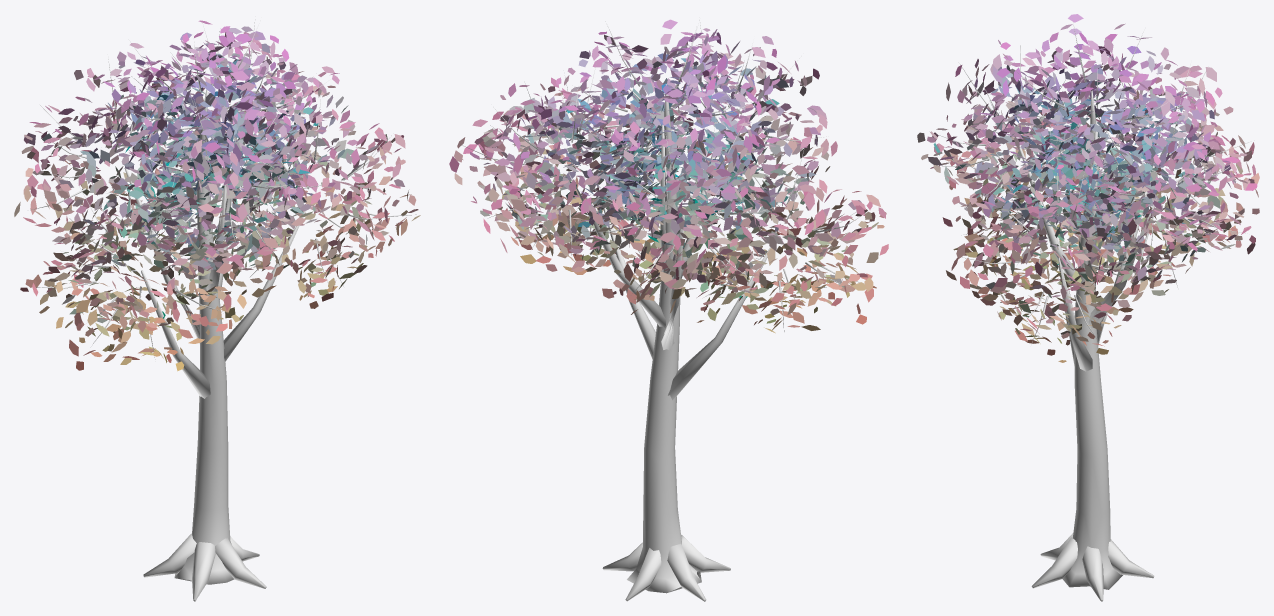
File: broadleaf_lod1.glb
The picture shows the model from 3 angles, left to right: view 1: azimuth 30°, elevation 25°; view 2: azimuth 150°, elevation 25°; view 3: azimuth 270°, elevation 25°; orthographic projection. The views are drawn at different scales.
Parts seen in each view (by area): view 1: LeafClump_Canopy, Trunk_Branches_LOD0; view 2: LeafClump_Canopy, Trunk_Branches_LOD0; view 3: LeafClump_Canopy, Trunk_Branches_LOD0.
Part boxes in pixels (box(x1,y1,x2,y2)): LeafClump_Canopy: box(14, 20, 420, 371); Trunk_Branches_LOD0: box(30, 19, 416, 601); LeafClump_Canopy: box(449, 19, 888, 333); Trunk_Branches_LOD0: box(462, 20, 870, 601); LeafClump_Canopy: box(917, 14, 1259, 362); Trunk_Branches_LOD0: box(935, 22, 1248, 601).
Bounding box in the file's own units: 7.1 × 10.04 × 5.68.
